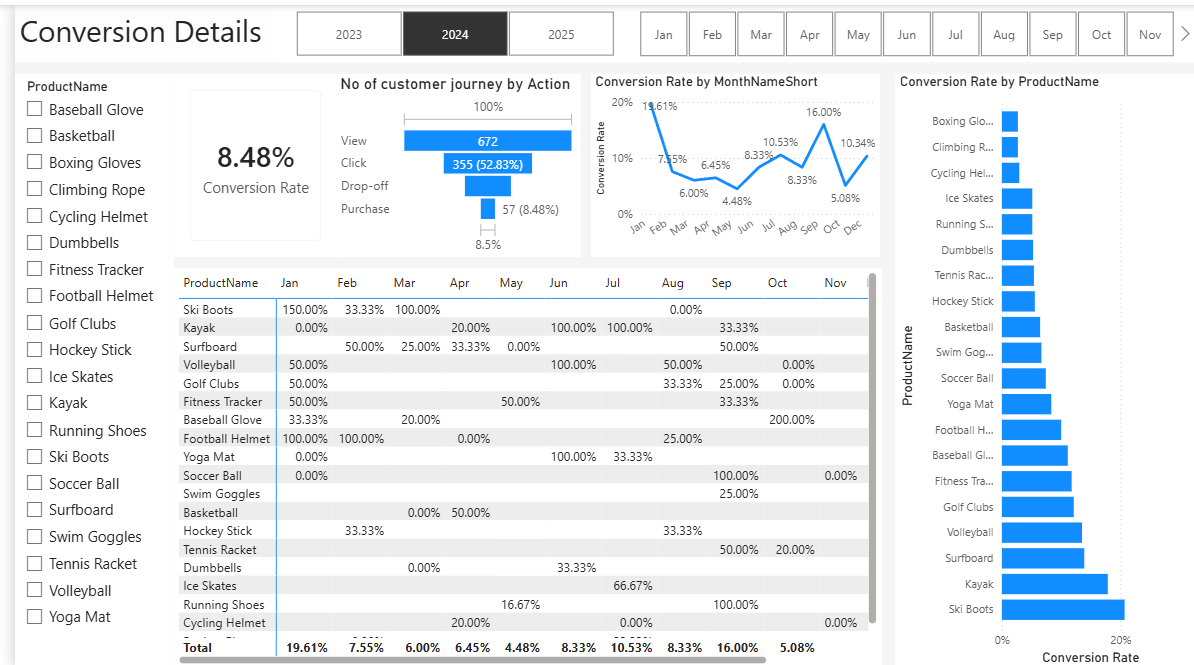

What the dashboard file says about the page in this screenshot:
{"tool":"powerbi","page":{"name":"Conversion Details","canvas":[1280,720],"ordinal":1},"visuals":[{"type":"textbox","box":[0,0,1280,61.7],"z":0},{"type":"slicer","fields":{"Values":["dim_products.ProductName"]},"box":[0,75,171.7,645],"z":1000},{"type":"cardVisual","fields":{"Data":["_calculations.Conversion Rate"]},"box":[171.7,75,176.7,198.3],"z":2000},{"type":"slicer","fields":{"Values":["Calendar.Year"]},"box":[280,0,393.3,61.7],"z":3000},{"type":"slicer","fields":{"Values":["Calendar.MonthNameShort"]},"box":[652,0,628,62],"z":4000},{"type":"lineChart","fields":{"Y":["_calculations.Conversion Rate"],"Category":["Calendar.MonthNameShort"]},"box":[625,75,313.3,198.3],"z":5000},{"type":"clusteredBarChart","fields":{"Category":["dim_products.ProductName"],"Y":["_calculations.Conversion Rate"]},"box":[955,75,325,645],"z":6000},{"type":"pivotTable","fields":{"Values":["_calculations.Conversion Rate"],"Rows":["dim_products.ProductName"],"Columns":["Calendar.MonthNameShort"]},"box":[171.7,285,766.7,435],"z":7000},{"type":"funnel","fields":{"Category":["fact_customer_journey.Action"],"Y":["_calculations.No of customer journey"]},"box":[348.3,75,265,198.3],"z":8000}]}

Visuals, with their boxes in screenshot pixels (x1, y1, x2, y2), scaled from the page's 1280x720 canvas onto the 1194x665 screenshot:
textbox: BBox(0, 0, 1193, 57)
slicer - dim_products.ProductName: BBox(0, 69, 160, 664)
cardVisual - _calculations.Conversion Rate: BBox(160, 69, 325, 252)
slicer - Calendar.Year: BBox(261, 0, 628, 57)
slicer - Calendar.MonthNameShort: BBox(608, 0, 1193, 57)
lineChart - _calculations.Conversion Rate x Calendar.MonthNameShort: BBox(583, 69, 875, 252)
clusteredBarChart - dim_products.ProductName x _calculations.Conversion Rate: BBox(891, 69, 1193, 664)
pivotTable - _calculations.Conversion Rate x dim_products.ProductName: BBox(160, 263, 875, 664)
funnel - fact_customer_journey.Action x _calculations.No of customer journey: BBox(325, 69, 572, 252)
